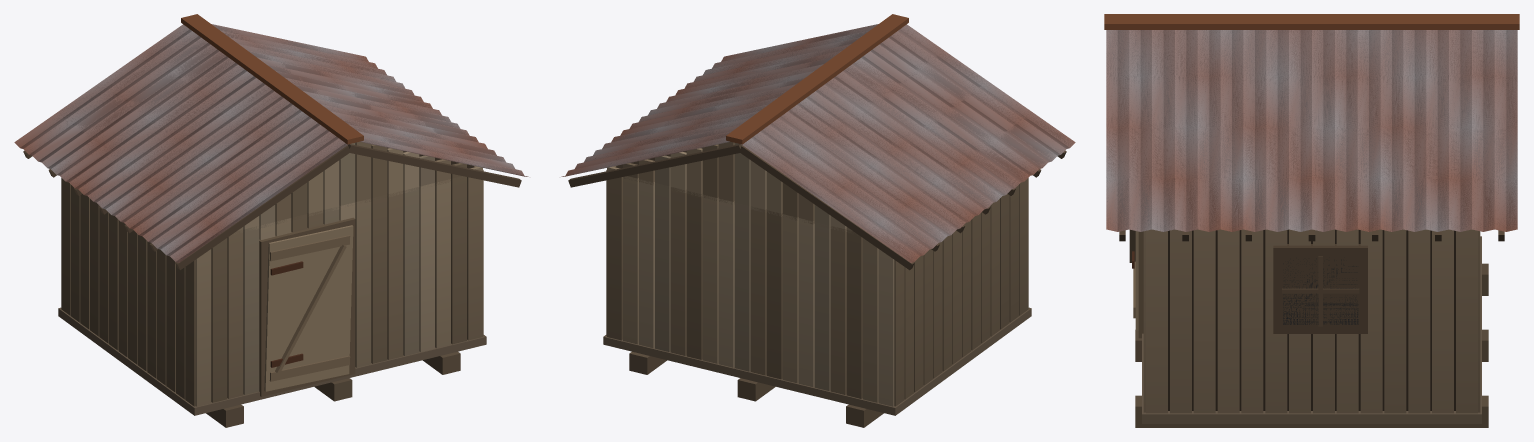
The model's file is shed.glb.
The picture shows the model from 3 angles, left to right: view 1: azimuth 30°, elevation 25°; view 2: azimuth 150°, elevation 25°; view 3: azimuth 270°, elevation 25°; orthographic projection. The views are drawn at different scales.
Visible parts, largest first — view 1: shed; view 2: shed; view 3: shed.
Part boxes in pixels (<box>): shed: <box>14,14,528,427</box>; shed: <box>561,14,1075,427</box>; shed: <box>1104,14,1519,427</box>.
Size of the model in its own units: 4.71 by 3.46 by 3.86.
